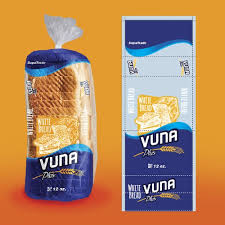bread: (119, 13, 200, 213), (25, 25, 97, 203)
